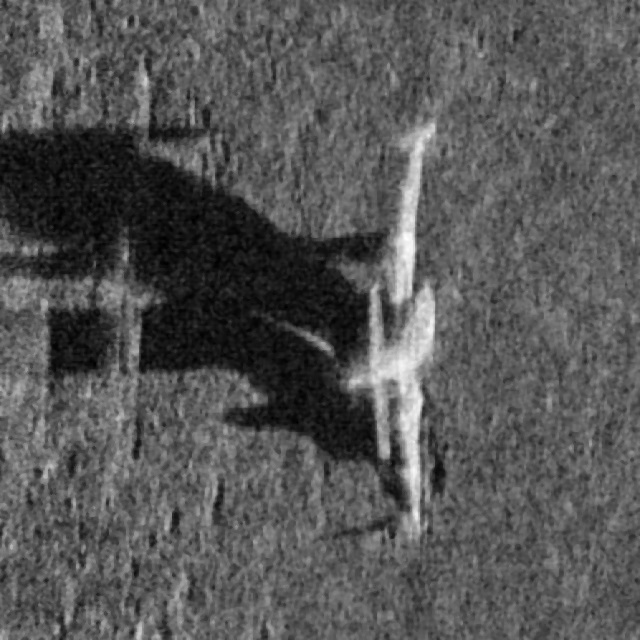Plane: (320, 107, 446, 553)
